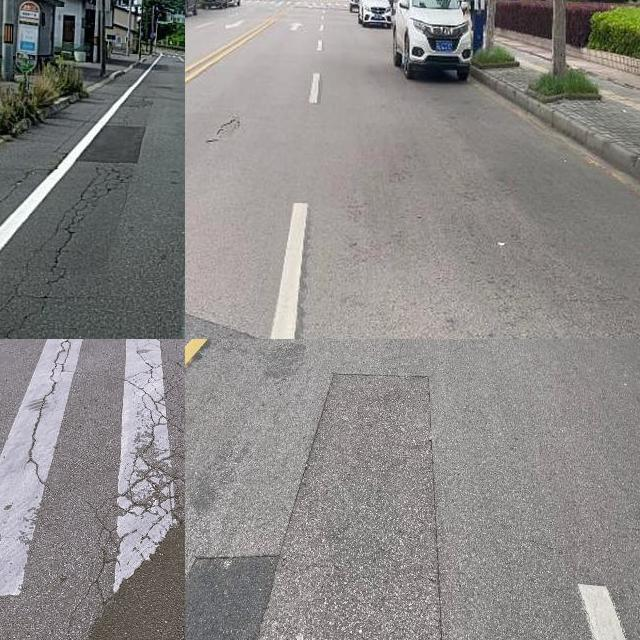Sambungan: (185, 376, 441, 640), (69, 121, 147, 166)
